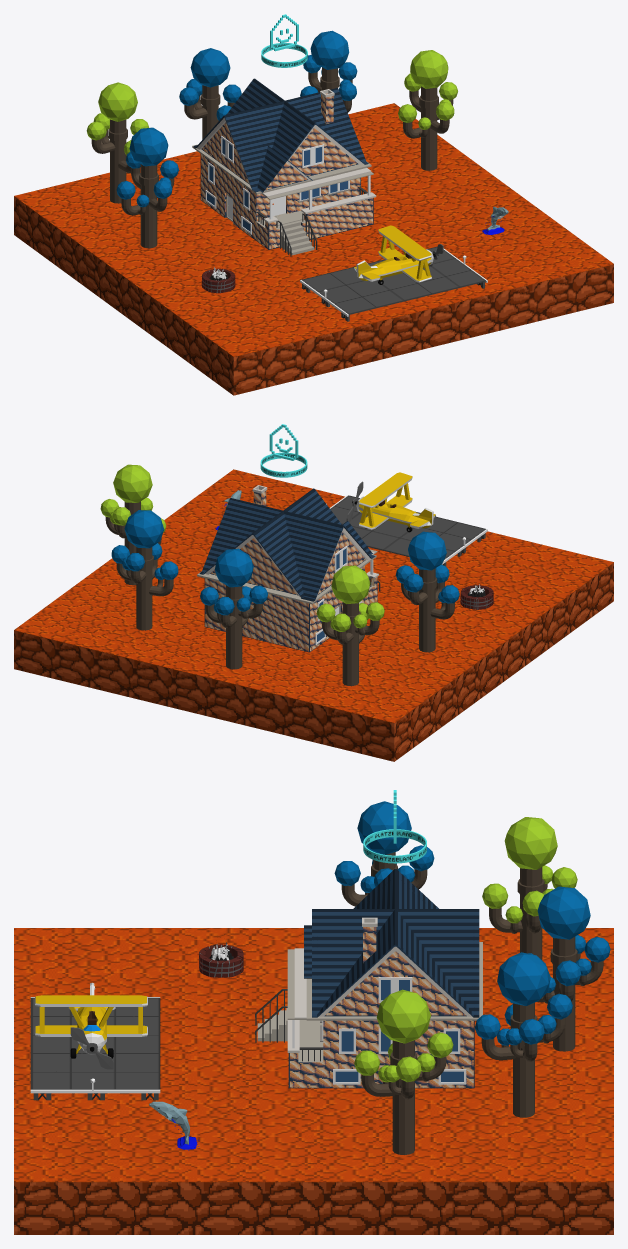
The picture shows the model from 3 angles, top to bottom: view 1: azimuth 30°, elevation 25°; view 2: azimuth 150°, elevation 25°; view 3: azimuth 270°, elevation 25°; orthographic projection. The views are drawn at different scales.
Parts seen in each view (by area): view 1: Cube.001, Cube.430, VEHICLES_AIRPLANE, TYPE_PREMIUM, OBJRANDOM_CAMPFIRE; view 2: Cube.001, Cube.430, VEHICLES_AIRPLANE, TYPE_PREMIUM, OBJRANDOM_CAMPFIRE; view 3: Cube.001, Cube.430, VEHICLES_AIRPLANE, OBJRANDOM_CAMPFIRE, TYPE_PREMIUM, ANIMAL_DELFIN.
Part boxes in pixels (x1,y1,x2,y2): Cube.001: (14,30,613,395); Cube.430: (192,78,376,256); VEHICLES_AIRPLANE: (354,225,443,284); TYPE_PREMIUM: (261,14,307,67); OBJRANDOM_CAMPFIRE: (201,267,235,293); Cube.001: (14,464,613,761); Cube.430: (197,485,380,652); VEHICLES_AIRPLANE: (346,472,435,532); TYPE_PREMIUM: (260,424,307,477); OBJRANDOM_CAMPFIRE: (460,584,493,609); Cube.001: (14,801,613,1234); Cube.430: (255,869,482,1088); VEHICLES_AIRPLANE: (34,982,147,1069); OBJRANDOM_CAMPFIRE: (199,942,243,977); TYPE_PREMIUM: (363,790,426,863); ANIMAL_DELFIN: (149,1101,198,1150).
Size of the model in its own units: 4000 by 2418 by 4000.
Materials: 40 (6 with a texture image).
